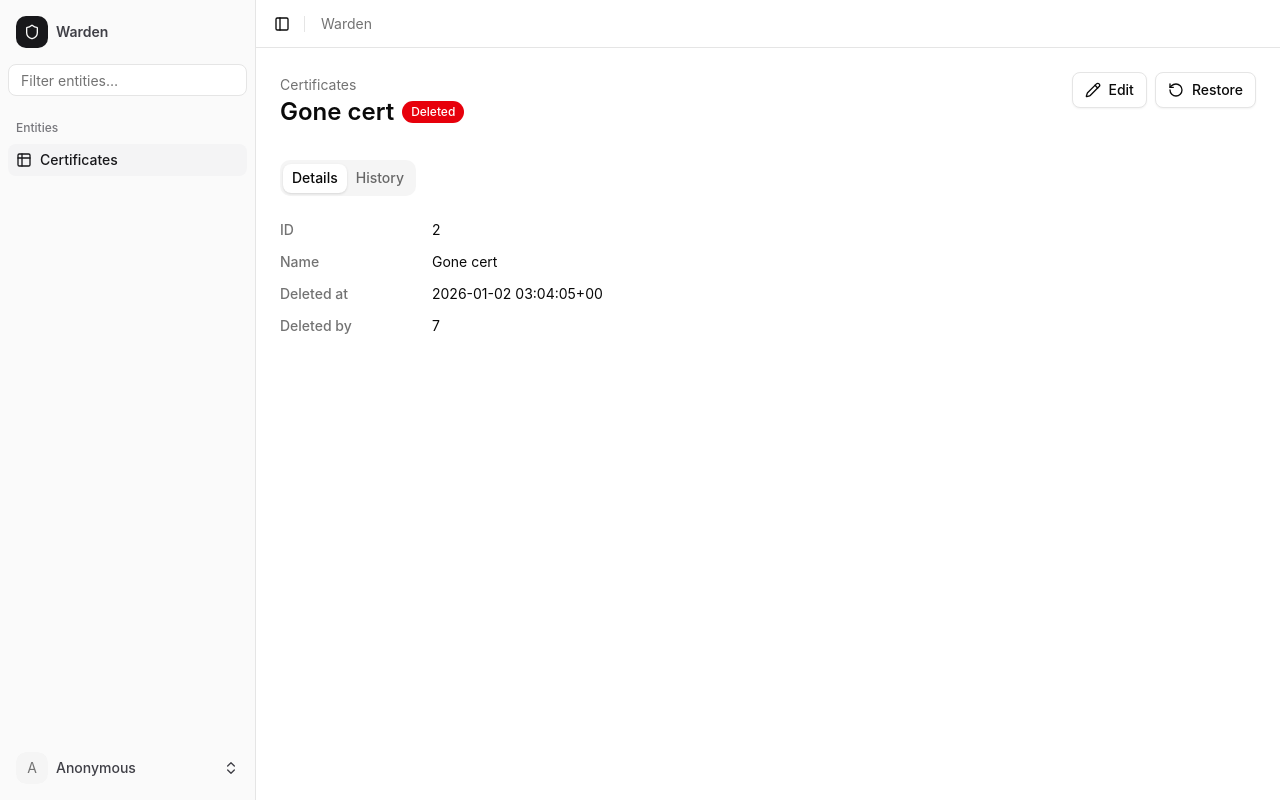
Test: record page of a soft-deleting entity › restores with a reason, sending the version shown
Click the button "Restore": point(1205, 90) [1155,72,1256,108]
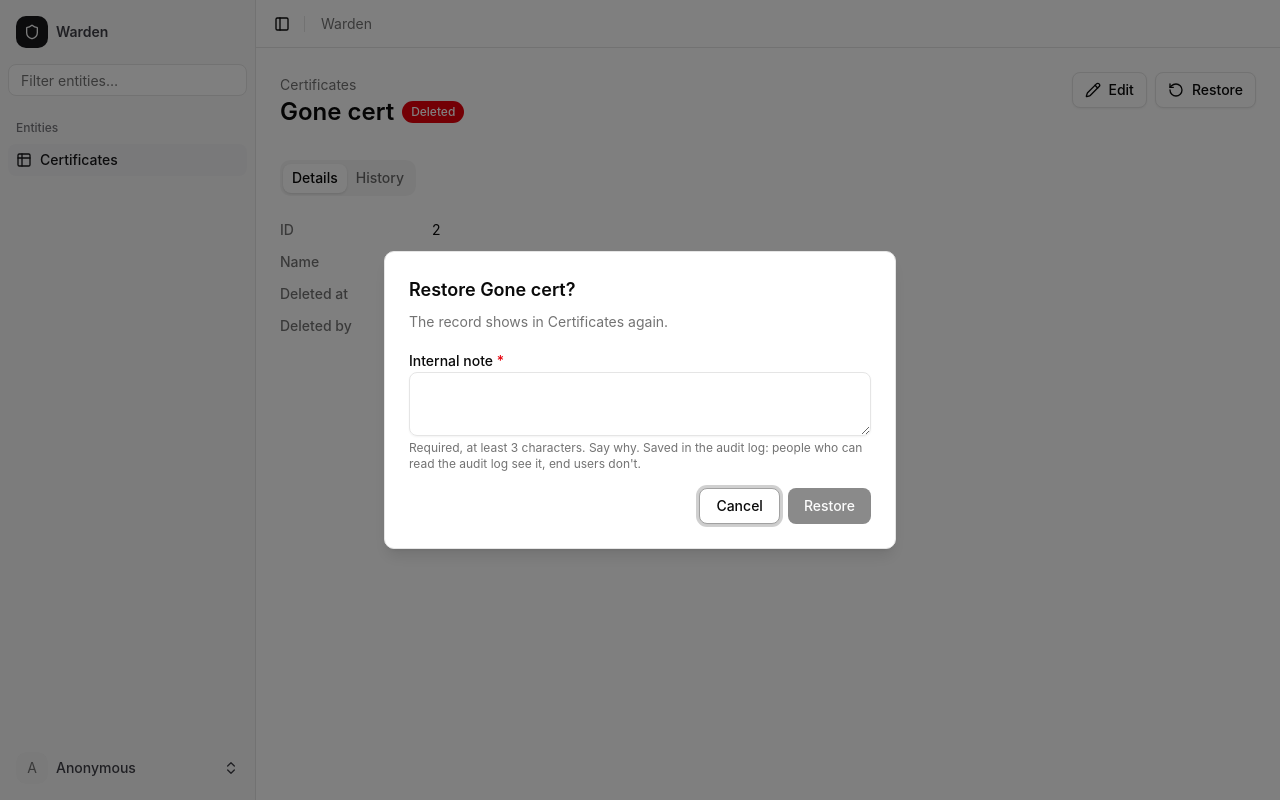
expect the button "Restore" is disabled: met, box [788,488,871,524]
In the text box: point(640, 404) [409,372,871,436], type "issued by mistake"
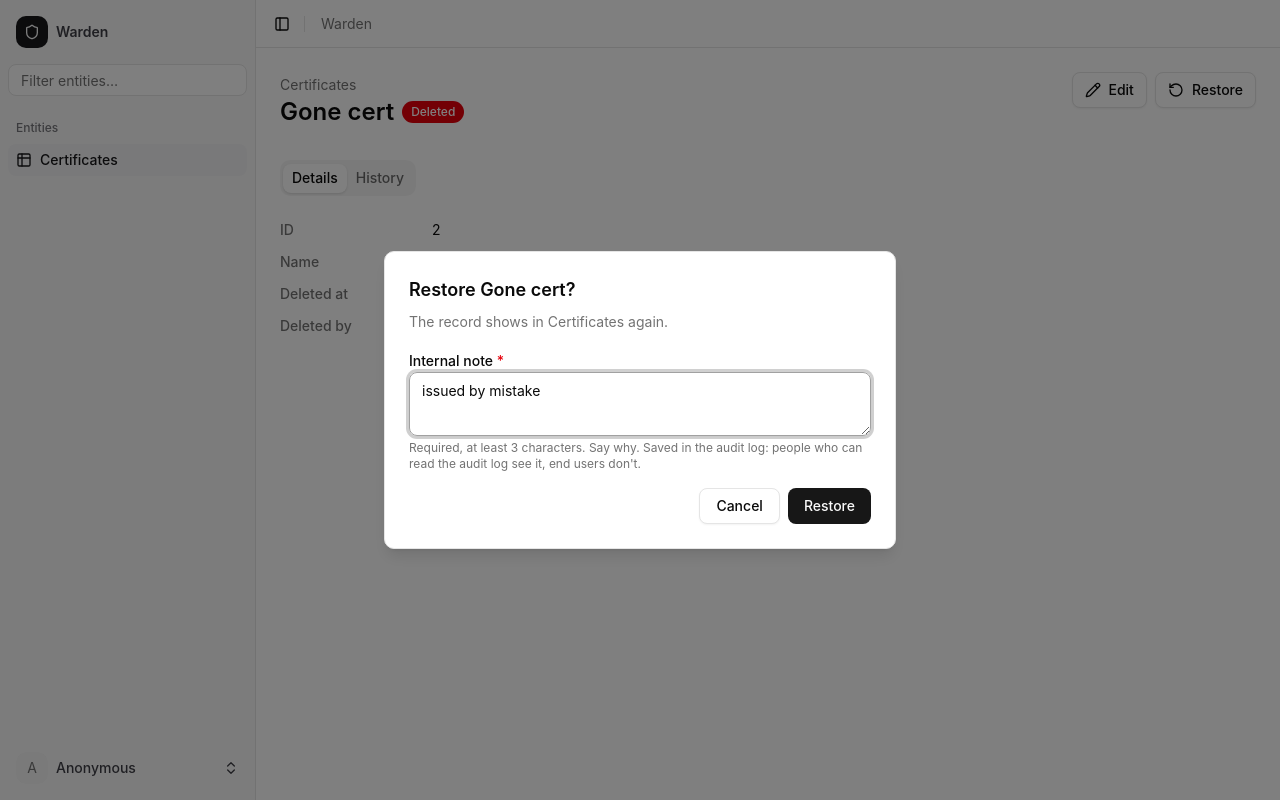
Click the button "Restore": point(829, 506) [788,488,871,524]
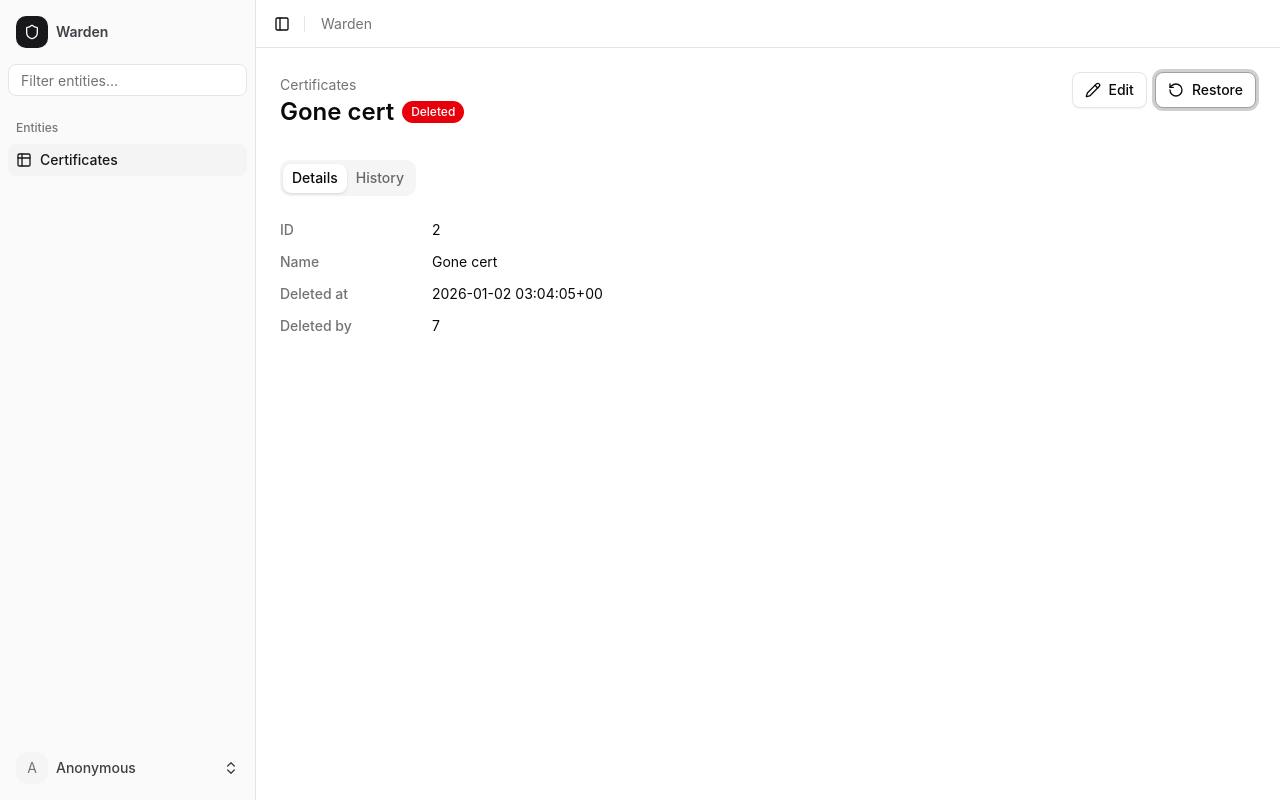
expect the dialog is gone: met
